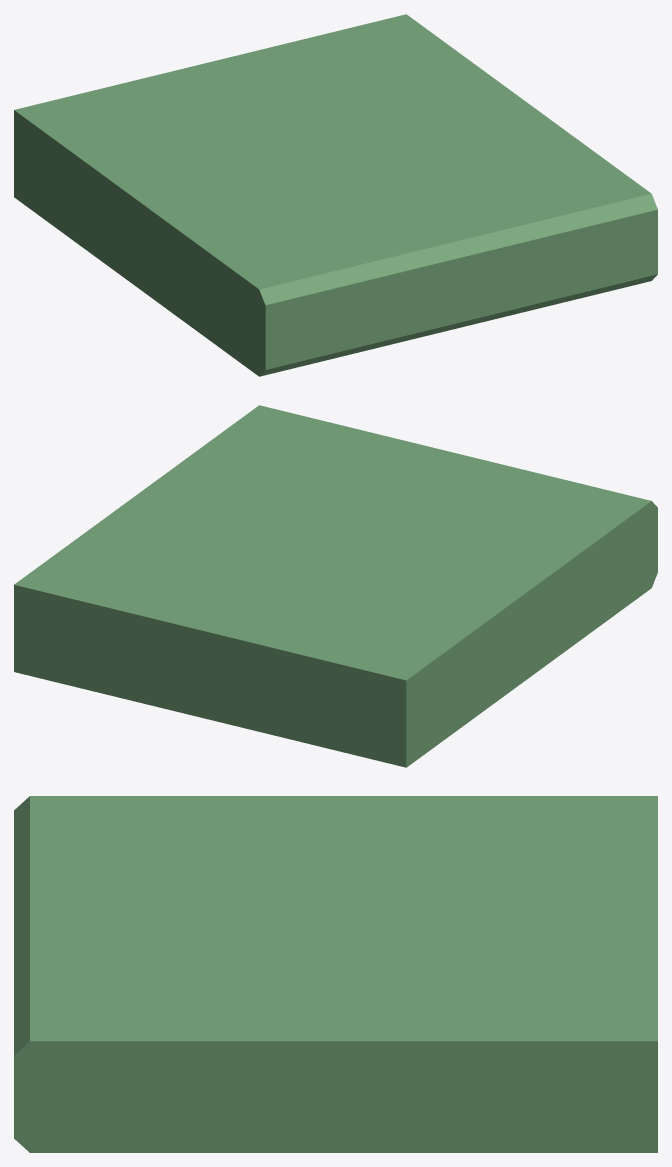
File: roof-flat-awning-a.obj
3 renders of one model, top to bottom at view 1: azimuth 30°, elevation 25°; view 2: azimuth 150°, elevation 25°; view 3: azimuth 270°, elevation 25°, orthographic. The views are drawn at different scales.
Bounding box in the file's own units: 1 × 0.2125 × 1.11.
